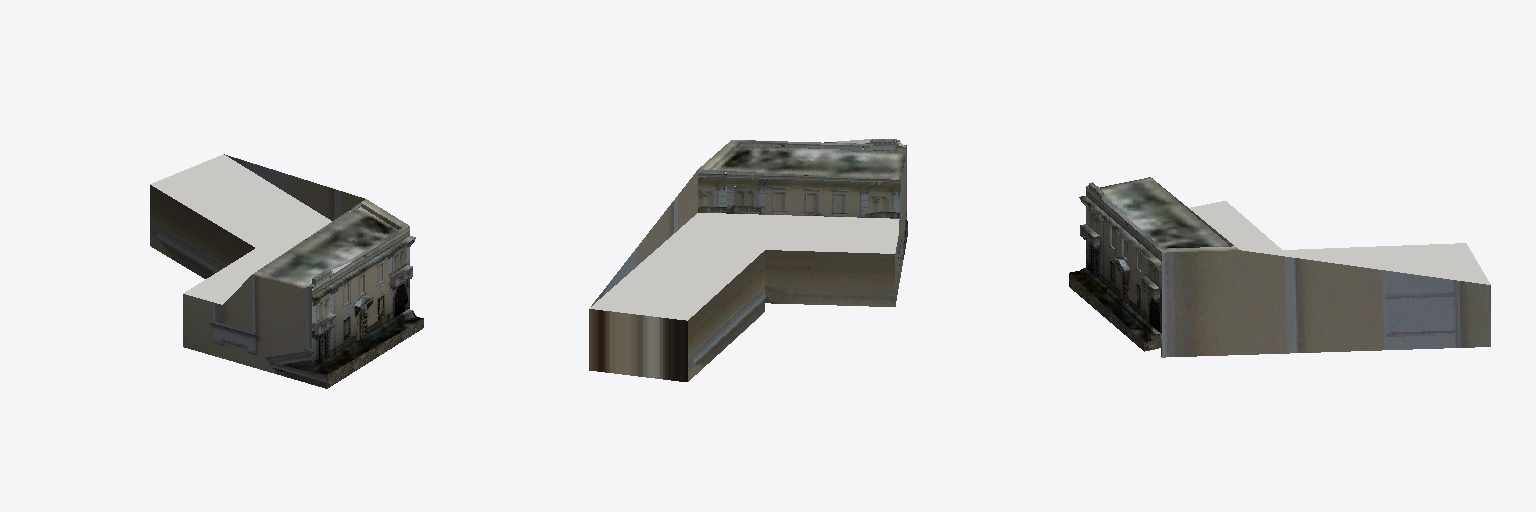
The picture shows the model from 3 angles: view 1: azimuth 30°, elevation 25°; view 2: azimuth 150°, elevation 25°; view 3: azimuth 270°, elevation 25°; orthographic projection.
Visible parts, largest first — view 1: Mesh17 Model; view 2: Mesh17 Model; view 3: Mesh17 Model.
Boxes of the visible parts, <box> form: Mesh17 Model: <box>150,154,423,388</box>; Mesh17 Model: <box>589,139,907,381</box>; Mesh17 Model: <box>1069,177,1490,357</box>.
Size of the model in its own units: 27.88 by 14.66 by 50.87.
5 materials, 4 textured.